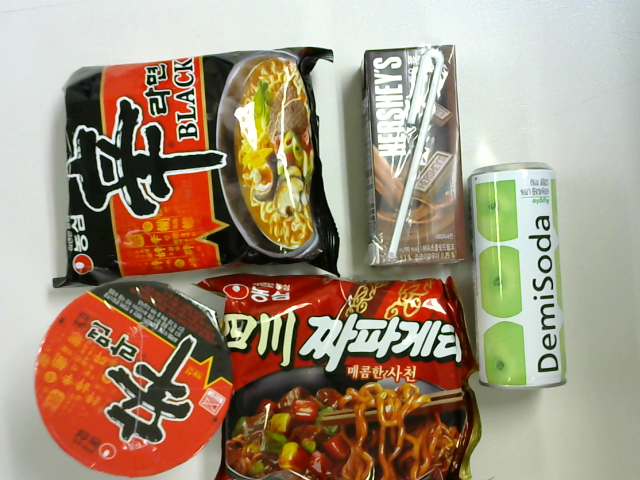Demisoda_Apple_Can_250ml: (467, 162, 571, 390)
Hush_Choco_Drink: (361, 44, 469, 266)
Sichuan_Chapaghetti: (221, 274, 483, 480)
Sinramen_Black: (61, 48, 343, 280)
Sinramen_small: (29, 280, 237, 468)
